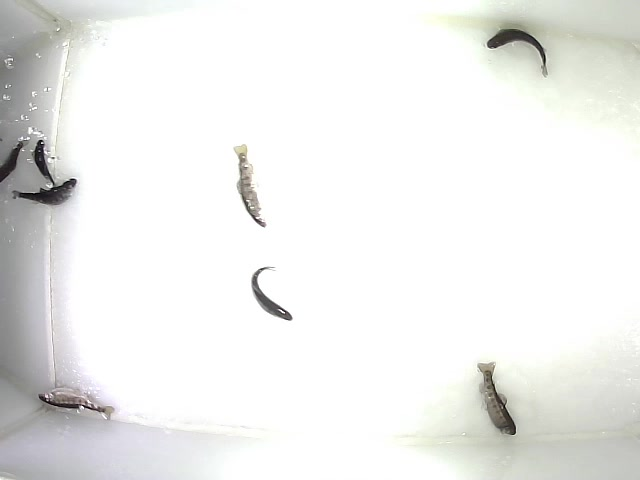fish: (486, 27, 550, 80), (475, 360, 518, 436), (232, 143, 268, 228), (37, 388, 115, 422), (250, 266, 294, 322), (11, 177, 78, 206), (31, 138, 57, 187)
